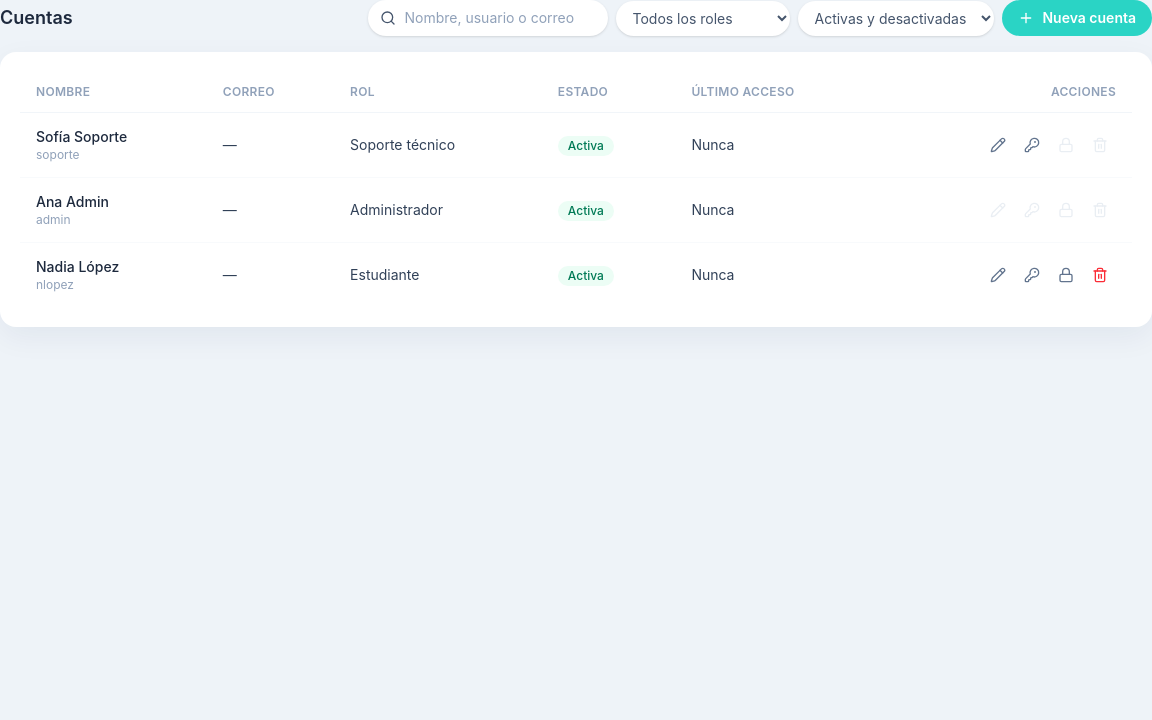
UserList › desactiva una cuenta tras confirmar
Click the button named "Desactivar" at point(1066, 275), box [1050,259,1082,291]
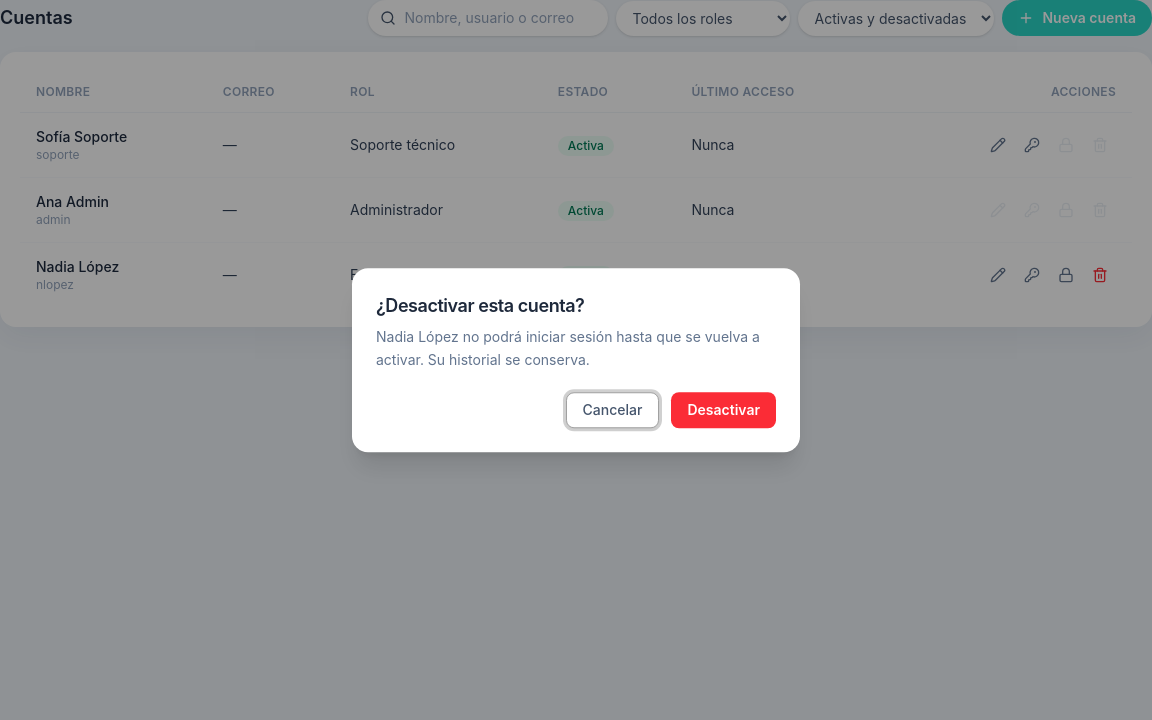
Click the button "Desactivar" at point(724, 410), box [671,392,776,428]
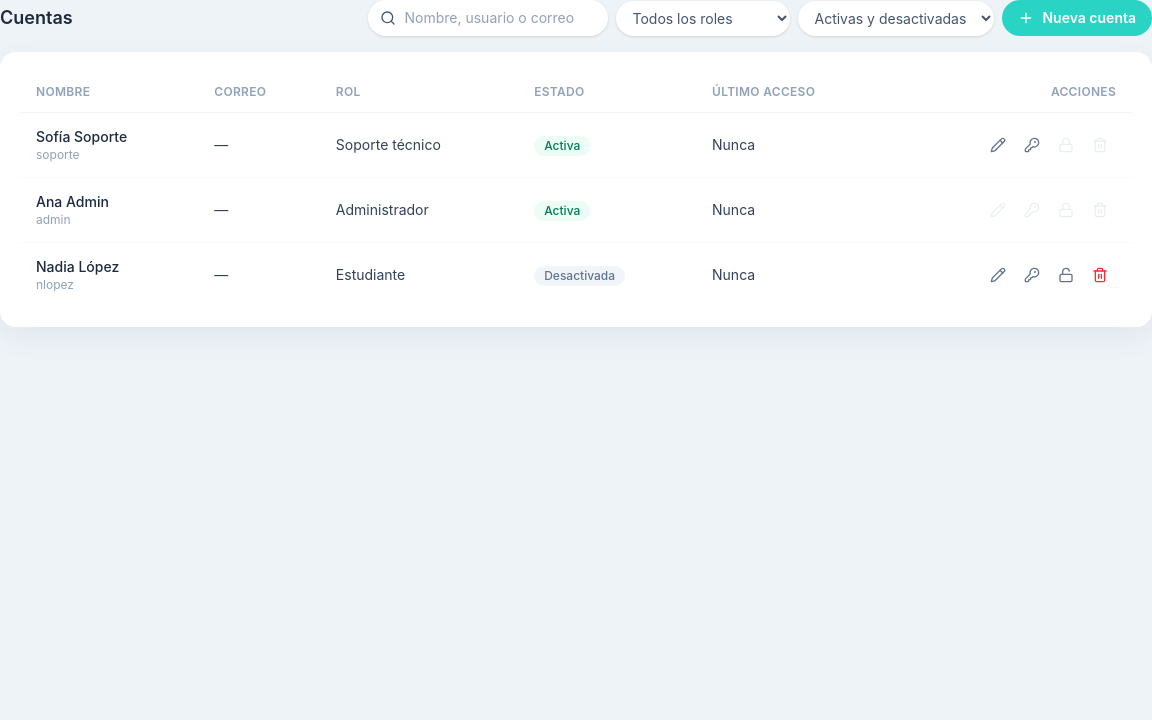
Expected: the text "Desactivada" is shown, [534,266,625,286]
